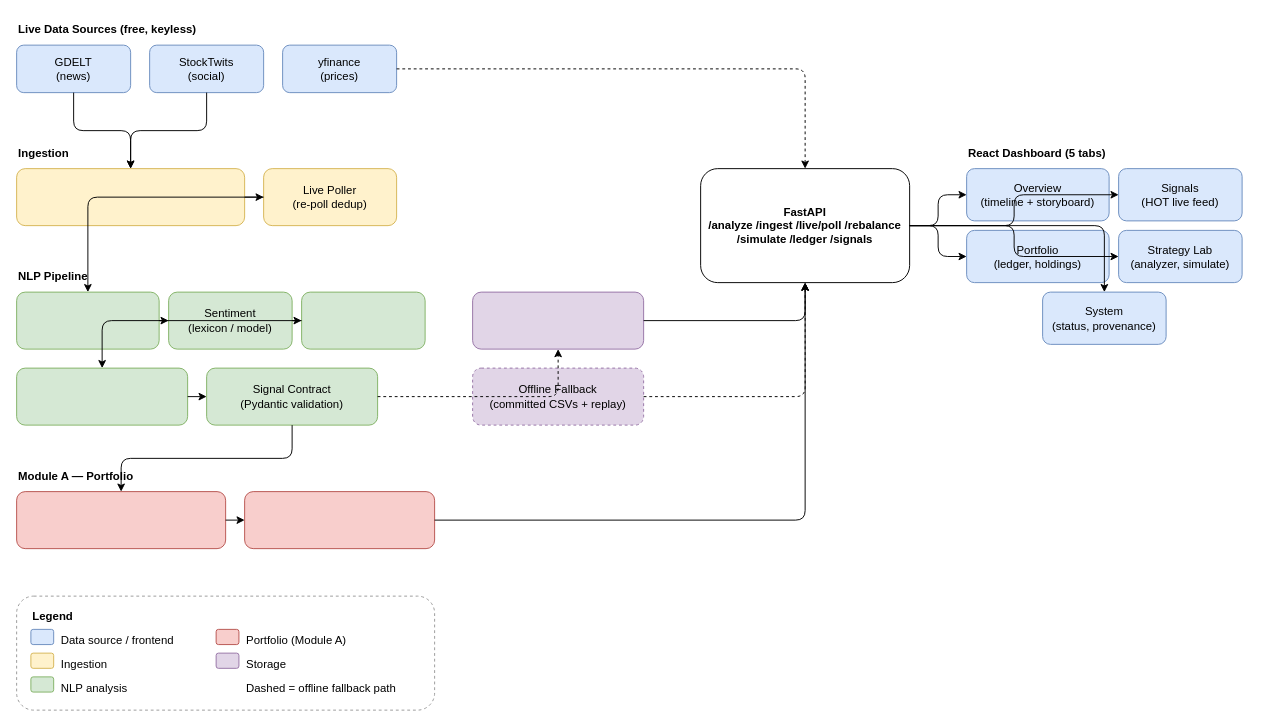
Some shapes in this 1268 by 727 pixel diagram are drawn without their labels. The box of each missing label's shape, as (x1, y1, x2, y2) in pixels:
Decision Ledger (SQLite: pre/post/why): (244, 491, 435, 549)
Entity Resolution (names + cashtags): (16, 291, 159, 349)
Event Classification: (301, 291, 425, 349)
Impact Rubric (deterministic, abstains): (16, 367, 188, 425)
Rebalancer (caps, gates, 100% norm): (16, 491, 226, 549)
Signal Store (SQLite: signals + dedup): (472, 291, 644, 349)
Source Adapters (news / social normalize): (16, 168, 245, 226)
